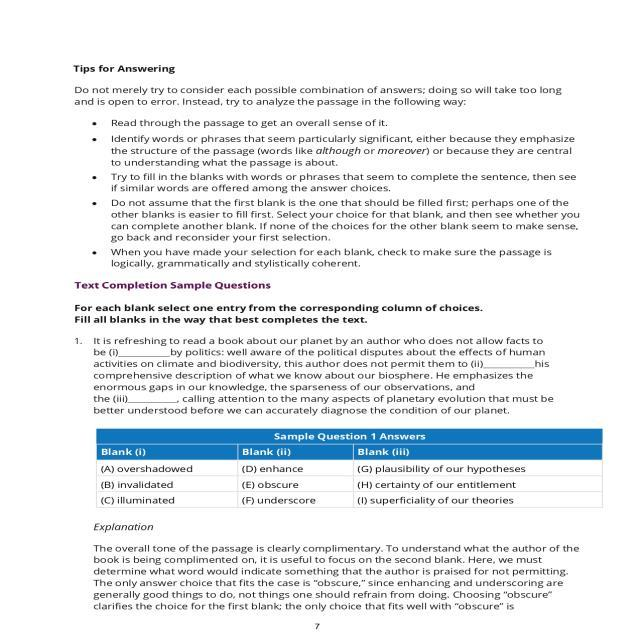Description: (57, 512, 619, 624)
Instruction: (57, 57, 619, 330)
Question_Answer_Block: (57, 331, 619, 511)
Question_Block: (57, 331, 619, 511)
Question_Paper_Area: (57, 57, 619, 623)
